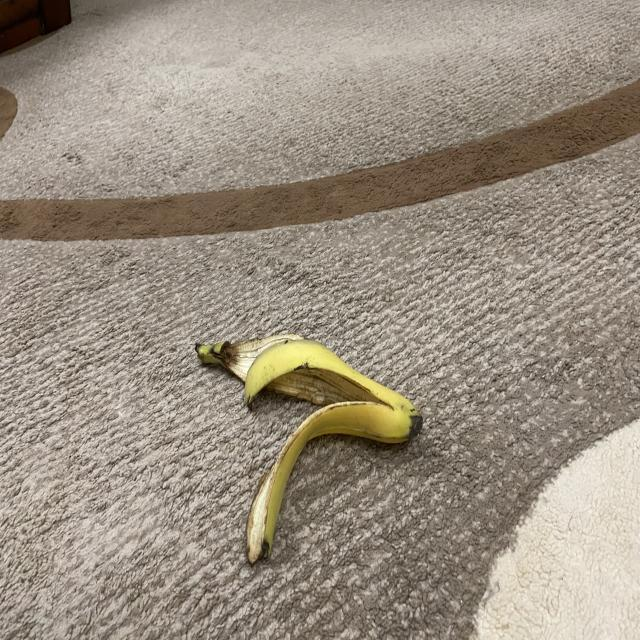banana-peel: (193, 332, 422, 565)
